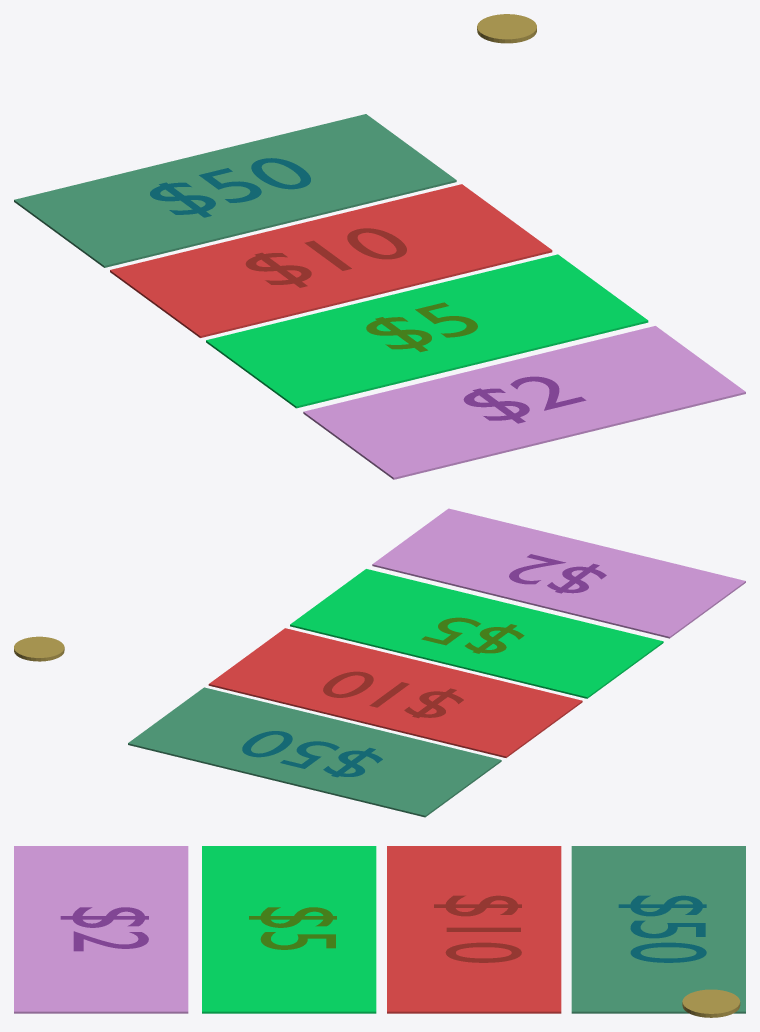
File: Money.fbx
3 views of the same model, one above another, from view 1: azimuth 30°, elevation 25°; view 2: azimuth 150°, elevation 25°; view 3: azimuth 270°, elevation 25° (orthographic). The views are drawn at different scales.
Visible parts, largest first — view 1: $2 Note, $5 Note, $10 note, $50 note, Text.003, Text.002, Text.001, Text, Gold Coins; view 2: $2 Note, $5 Note, $10 note, $50 note, Text.003, Text.002, Text.001, Text, Gold Coins; view 3: $2 Note, $5 Note, $10 note, $50 note, Text.003, Text.002, Text.001, Text, Gold Coins.
Part boxes in pixels (x1,y1,x2,y2): $2 Note: (303, 326, 745, 479); $5 Note: (206, 254, 648, 408); $10 note: (110, 184, 552, 337); $50 note: (14, 114, 456, 267); Text.003: (150, 158, 310, 217); Text.002: (245, 228, 406, 287); Text.001: (366, 302, 477, 352); Text: (463, 376, 586, 423); Gold Coins: (477, 14, 536, 43); $2 Note: (372, 508, 745, 638); $5 Note: (290, 569, 663, 698); $10 note: (208, 628, 582, 757); $50 note: (128, 687, 501, 817); Text.003: (242, 731, 382, 777); Text.002: (323, 671, 463, 718); Text.001: (421, 617, 524, 653); Text: (509, 554, 606, 593); Gold Coins: (14, 636, 64, 661); $2 Note: (14, 846, 188, 1013); $5 Note: (202, 846, 376, 1013); $10 note: (387, 846, 561, 1013); $50 note: (571, 846, 745, 1013); Text.003: (618, 895, 706, 962); Text.002: (434, 895, 521, 962); Text.001: (249, 907, 336, 949); Text: (60, 907, 148, 951); Gold Coins: (682, 989, 740, 1017).
Bounding box in the file's own units: 512 × 70.71 × 672.
